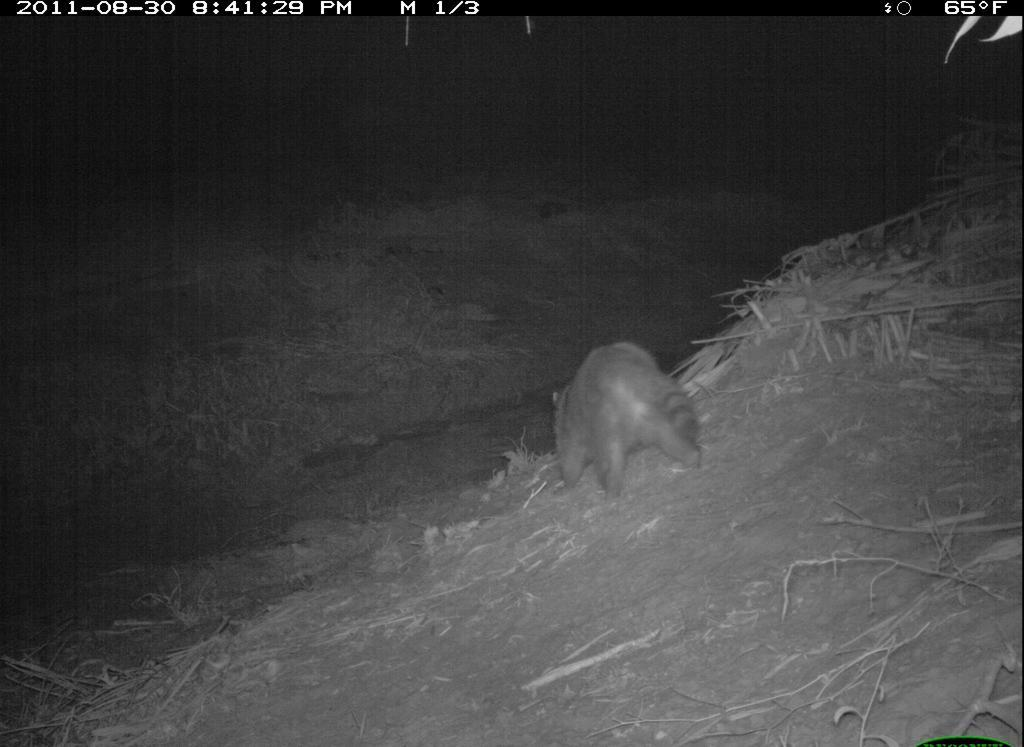raccoon: (547, 338, 711, 504)
